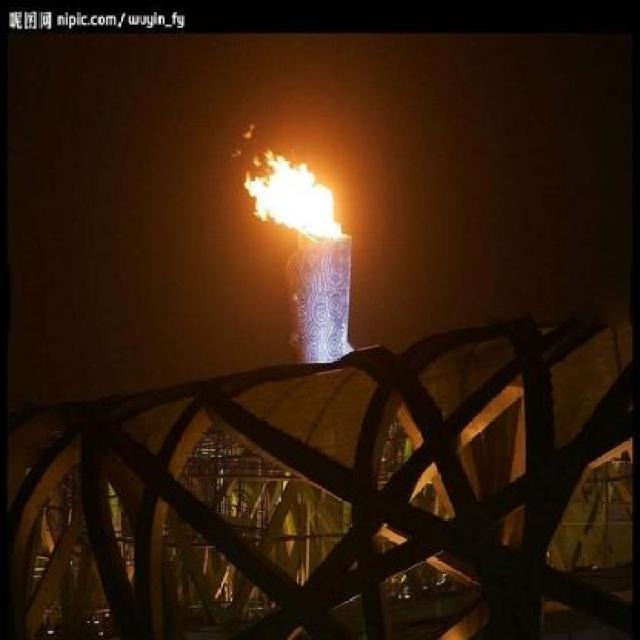Fire: (239, 124, 343, 244)
